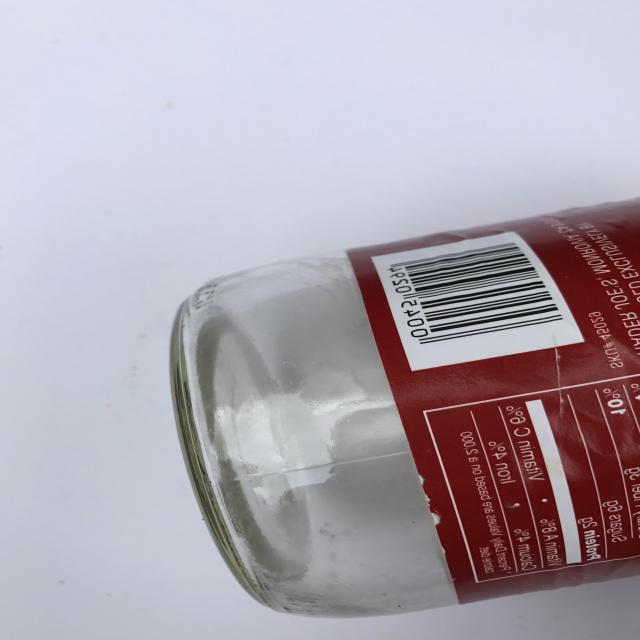glass: (168, 191, 640, 619)
